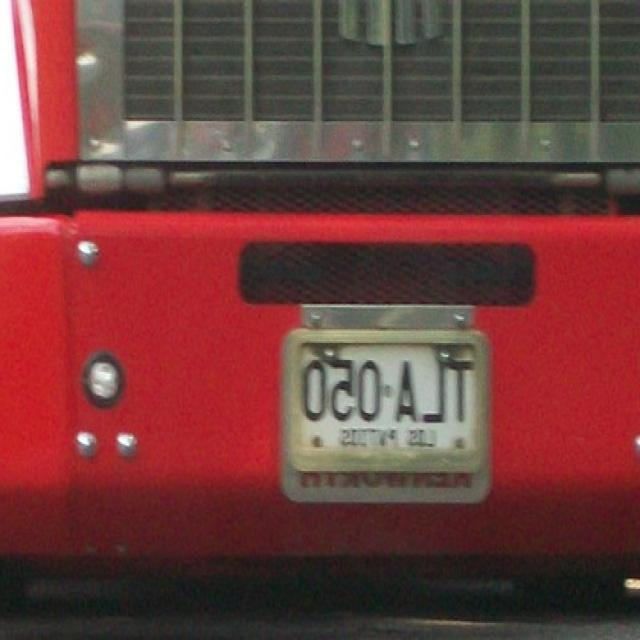placas: (294, 347, 478, 432)
